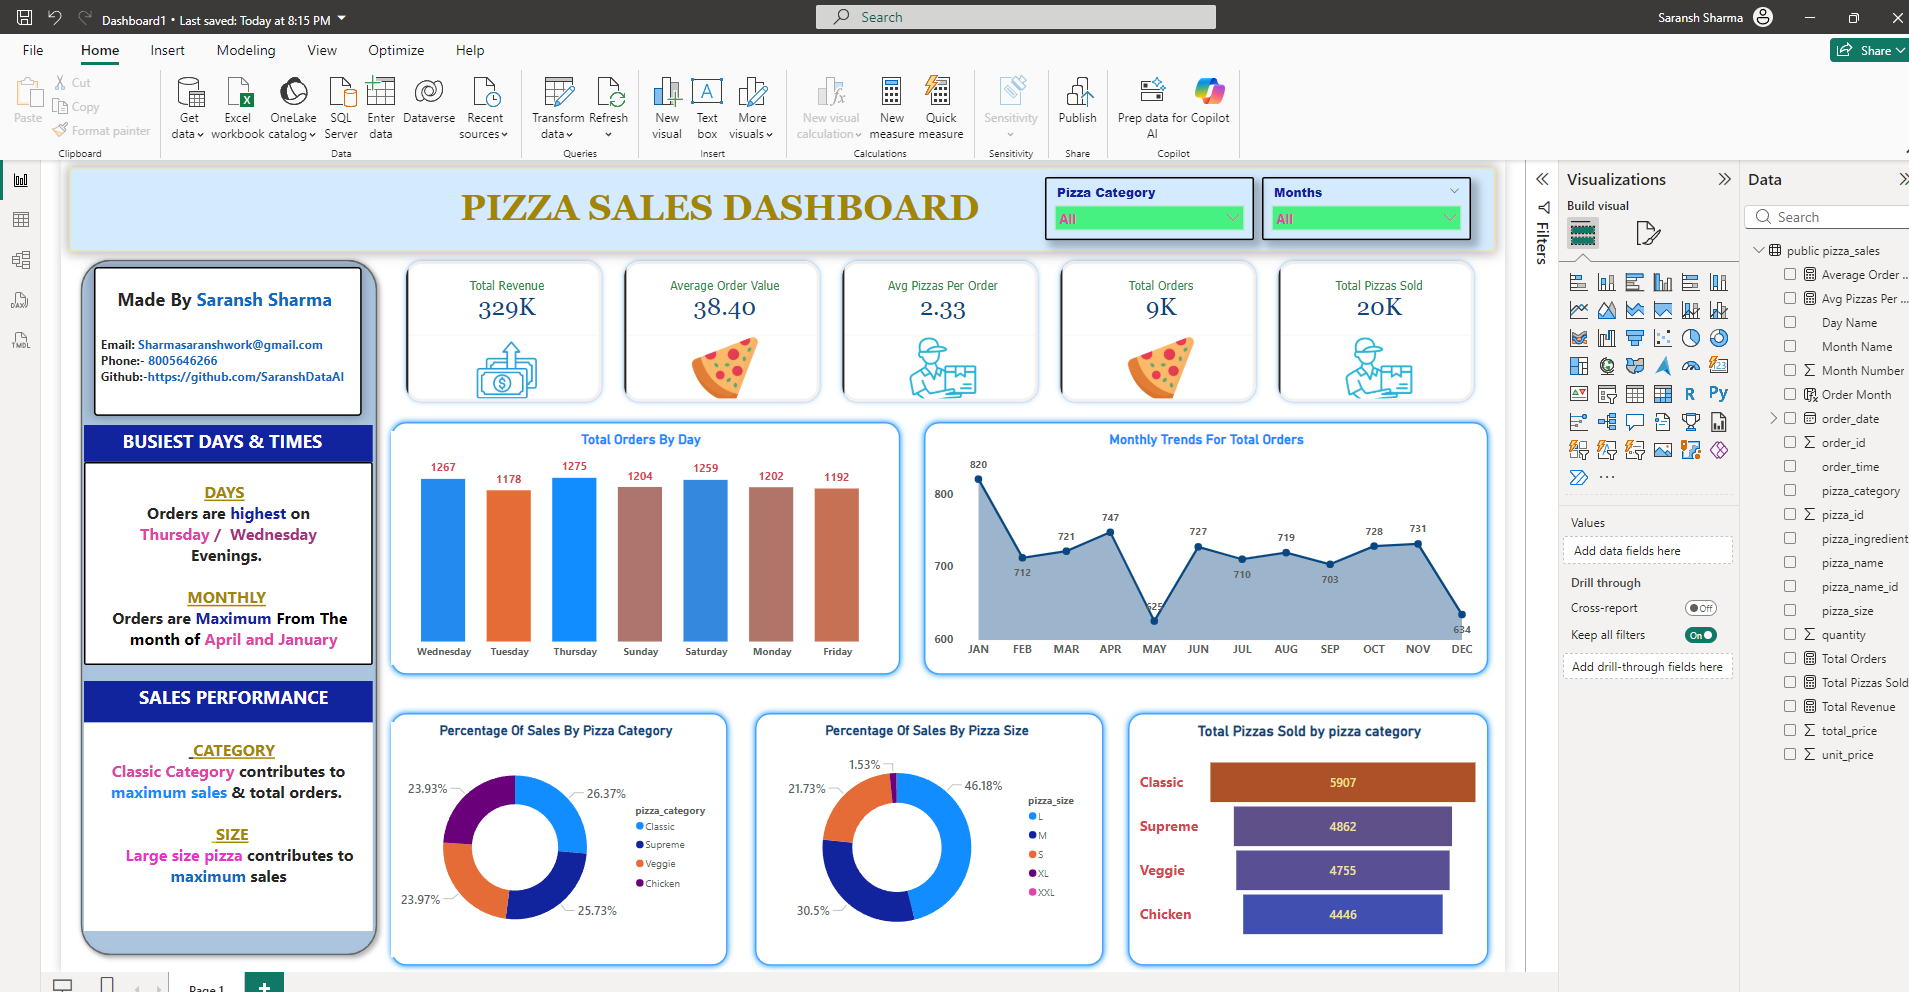

The page's visual inventory and layout, read from the dashboard file:
{"tool":"powerbi","page":{"name":"Page 1","canvas":[1920,1080],"ordinal":0},"visuals":[{"type":"cardVisual","fields":{"Data":["public pizza_sales.Total Revenue","public pizza_sales.Average Order Value","public pizza_sales.Avg Pizzas Per Order","public pizza_sales.Total Orders","public pizza_sales.Total Pizzas Sold"]},"box":[430.9,106.4,1476.4,243.4],"z":0},{"type":"textbox","box":[10.6,9.3,1896.7,113.1],"z":1000},{"type":"shape","box":[430.9,340.5,694.3,352.5],"z":2000},{"type":"columnChart","title":"Total Orders By Day","fields":{"Y":["public pizza_sales.Total Orders"],"Category":["public pizza_sales.Day Name"]},"box":[438.9,360.4,665,311.2],"z":3000},{"type":"shape","box":[1139.9,340.5,767.4,352.5],"z":4000},{"type":"areaChart","title":"Monthly Trends For Total Orders","fields":{"Category":["public pizza_sales.Order Month"],"Y":["public pizza_sales.Total Orders"]},"box":[1155.8,360.4,735.5,311.2],"z":5000},{"type":"shape","box":[430.9,727.5,464.2,352.5],"z":6000},{"type":"shape","box":[915.1,727.5,480.1,352.5],"z":7000},{"type":"shape","box":[1411.2,727.5,496.1,352.5],"z":8000},{"type":"donutChart","title":"Percentage Of Sales By Pizza Category","fields":{"Category":["public pizza_sales.pizza_category"],"Y":["public pizza_sales.Total Revenue"]},"box":[438.9,747.5,438.9,312.6],"z":9000},{"type":"donutChart","title":"Percentage Of Sales By Pizza Size","fields":{"Y":["public pizza_sales.Total Revenue"],"Category":["public pizza_sales.pizza_size"]},"box":[932.4,747.5,438.9,312.6],"z":10000},{"type":"funnel","title":"Total Pizzas Sold by pizza category","fields":{"Y":["public pizza_sales.Total Pizzas Sold"],"Category":["public pizza_sales.pizza_category"]},"box":[1429.8,747.5,461.5,312.6],"z":11000},{"type":"shape","box":[16,122.4,415,945.7],"z":12000},{"type":"textbox","box":[30.6,352.5,384.4,49.2],"z":13000},{"type":"textbox","box":[30.6,401.7,384.4,270],"z":14000},{"type":"textbox","box":[30.6,747.5,384.4,278],"z":14001},{"type":"textbox","box":[30.6,693,384.4,54.5],"z":14002},{"type":"slicer","fields":{"Values":["public pizza_sales.pizza_category"]},"box":[1308.8,22.6,278,83.8],"z":14003},{"type":"slicer","fields":{"Values":["public pizza_sales.Order Month"]},"box":[1597.4,22.6,278,83.8],"z":14004},{"type":"textbox","box":[43.9,142.3,356.5,198.2],"z":14005}]}

Visuals, with their boxes on the page's 1920x1080 design canvas (x1, y1, x2, y2). These are canvas units, not pixel positions in the 1909x992 screenshot, which may show the page scaled, cropped or inside an application window:
cardVisual - public pizza_sales.Total Revenue x public pizza_sales.Average Order Value: {"left": 431, "top": 106, "right": 1907, "bottom": 350}
textbox: {"left": 11, "top": 9, "right": 1907, "bottom": 122}
shape: {"left": 431, "top": 340, "right": 1125, "bottom": 693}
"Total Orders By Day" columnChart: {"left": 439, "top": 360, "right": 1104, "bottom": 672}
shape: {"left": 1140, "top": 340, "right": 1907, "bottom": 693}
"Monthly Trends For Total Orders" areaChart: {"left": 1156, "top": 360, "right": 1891, "bottom": 672}
shape: {"left": 431, "top": 728, "right": 895, "bottom": 1080}
shape: {"left": 915, "top": 728, "right": 1395, "bottom": 1080}
shape: {"left": 1411, "top": 728, "right": 1907, "bottom": 1080}
"Percentage Of Sales By Pizza Category" donutChart: {"left": 439, "top": 748, "right": 878, "bottom": 1060}
"Percentage Of Sales By Pizza Size" donutChart: {"left": 932, "top": 748, "right": 1371, "bottom": 1060}
"Total Pizzas Sold by pizza category" funnel: {"left": 1430, "top": 748, "right": 1891, "bottom": 1060}
shape: {"left": 16, "top": 122, "right": 431, "bottom": 1068}
textbox: {"left": 31, "top": 352, "right": 415, "bottom": 402}
textbox: {"left": 31, "top": 402, "right": 415, "bottom": 672}
textbox: {"left": 31, "top": 748, "right": 415, "bottom": 1026}
textbox: {"left": 31, "top": 693, "right": 415, "bottom": 748}
slicer - public pizza_sales.pizza_category: {"left": 1309, "top": 23, "right": 1587, "bottom": 106}
slicer - public pizza_sales.Order Month: {"left": 1597, "top": 23, "right": 1875, "bottom": 106}
textbox: {"left": 44, "top": 142, "right": 400, "bottom": 340}
